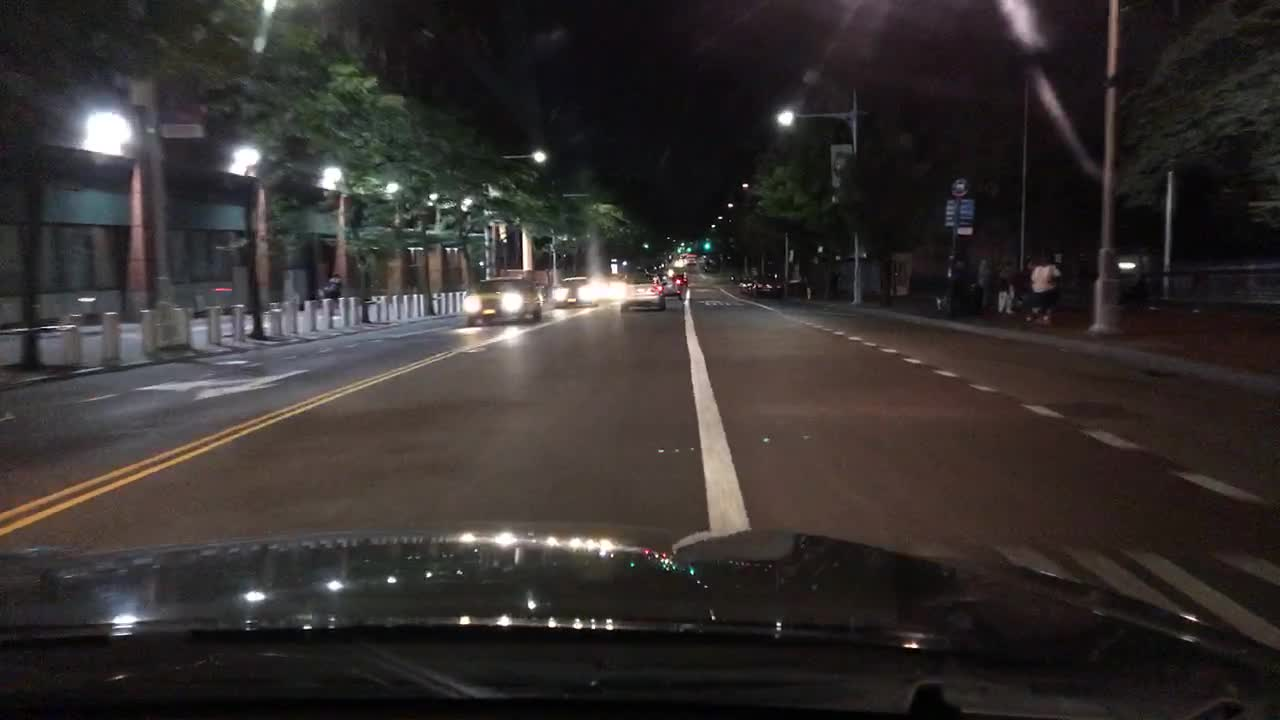car: (461, 276, 543, 324), (618, 274, 665, 311), (553, 276, 597, 306), (749, 275, 783, 299), (595, 278, 626, 299), (661, 277, 682, 298), (676, 272, 690, 286), (737, 279, 751, 290), (656, 272, 668, 284), (686, 257, 696, 265)
person: (1029, 254, 1061, 320), (997, 262, 1015, 316), (1015, 258, 1031, 305)
traffic light: (702, 243, 711, 250)
traffic sign: (957, 197, 974, 234), (949, 177, 967, 196), (945, 200, 956, 226)
